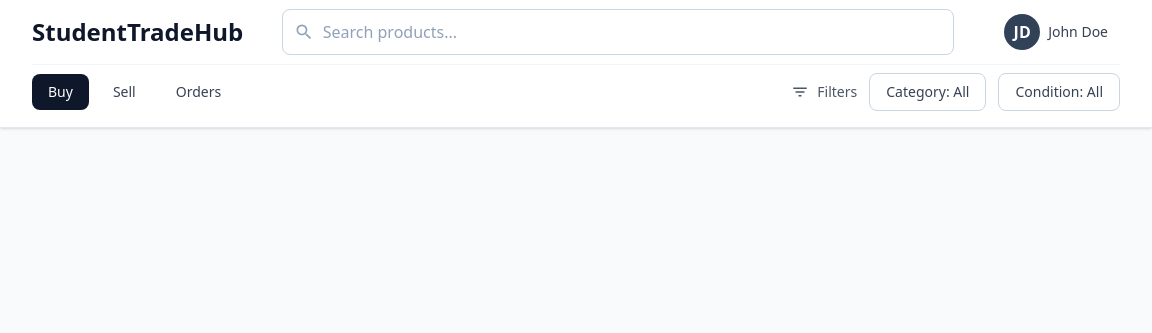
Test: Navbar Component › Profile Dropdown › opens dropdown when profile button is clicked
Click the button "JD John Doe" at (1056, 32), box [992,6,1120,58]
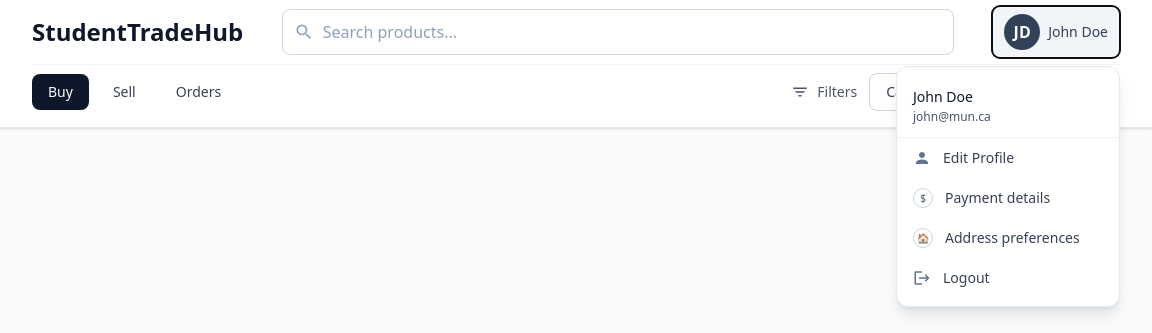
Now the text "Edit Profile" is shown, box [943,148,1014,168]
Now the text "Payment details" is shown, box [945,188,1050,208]
Now the text "Address preferences" is shown, box [945,228,1080,248]
